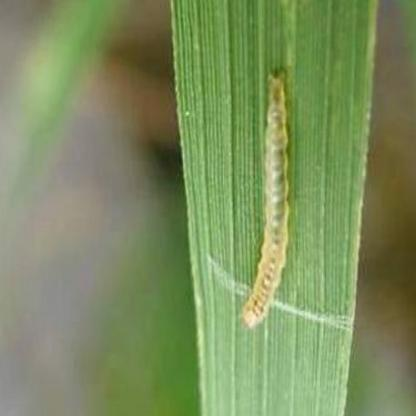leaf-folder: (232, 66, 300, 330)
